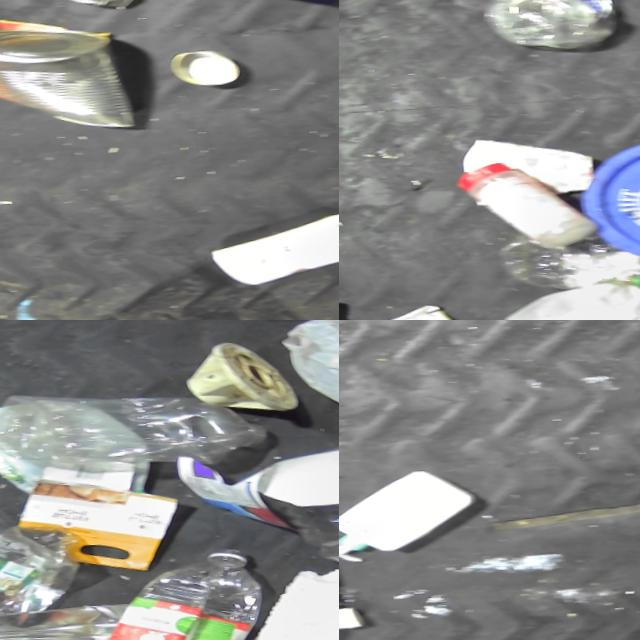can: (0, 16, 138, 138), (0, 595, 129, 640), (167, 42, 242, 86)
milk_jug: (501, 270, 640, 320), (275, 320, 339, 426)
non_white_jug: (258, 422, 339, 593)
plastic_bottle: (85, 535, 274, 640), (0, 516, 86, 615)
